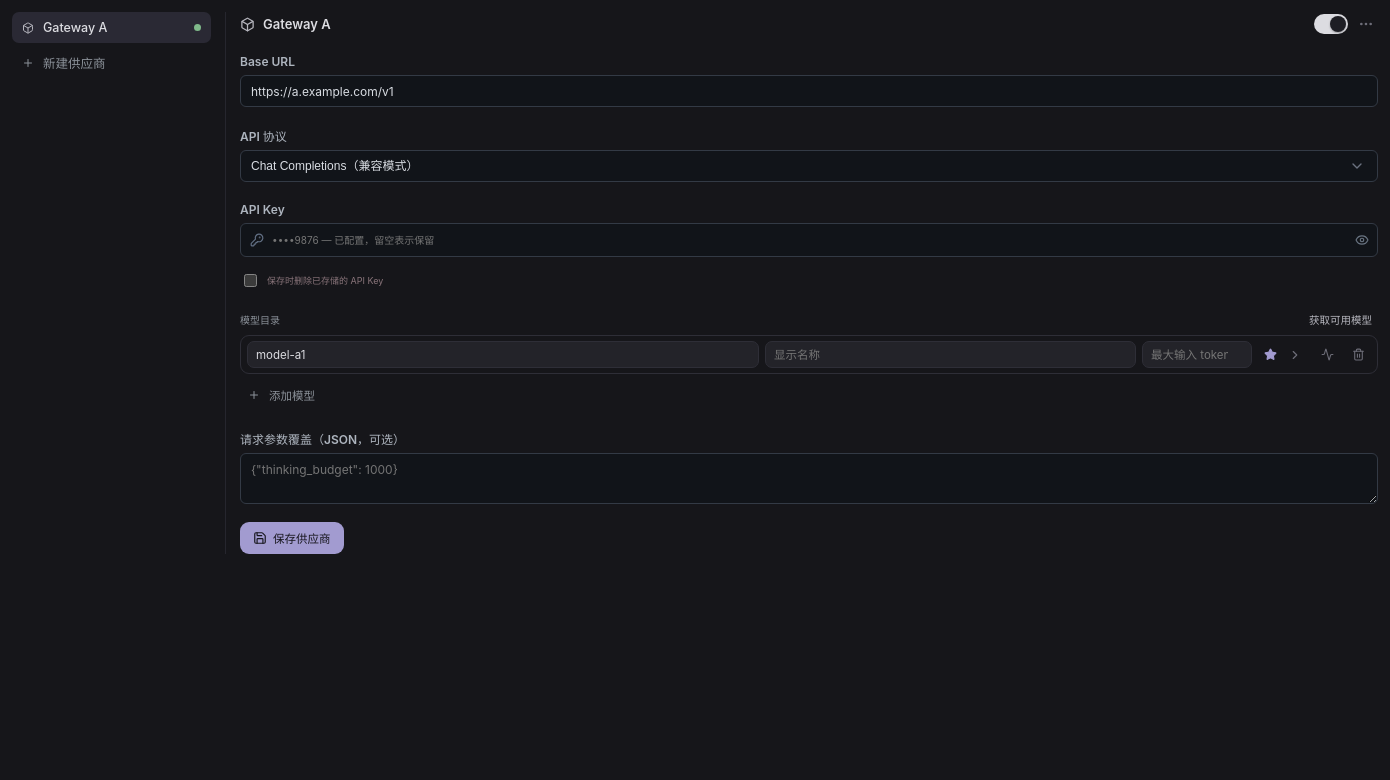
ProviderManager › keeps row test buttons disabled while the provider is unsaved
expect the button named "更多操作" is shown: met, box [1354,12,1378,36]
Click the button "新建供应商" at (112, 62), box [12,45,211,80]
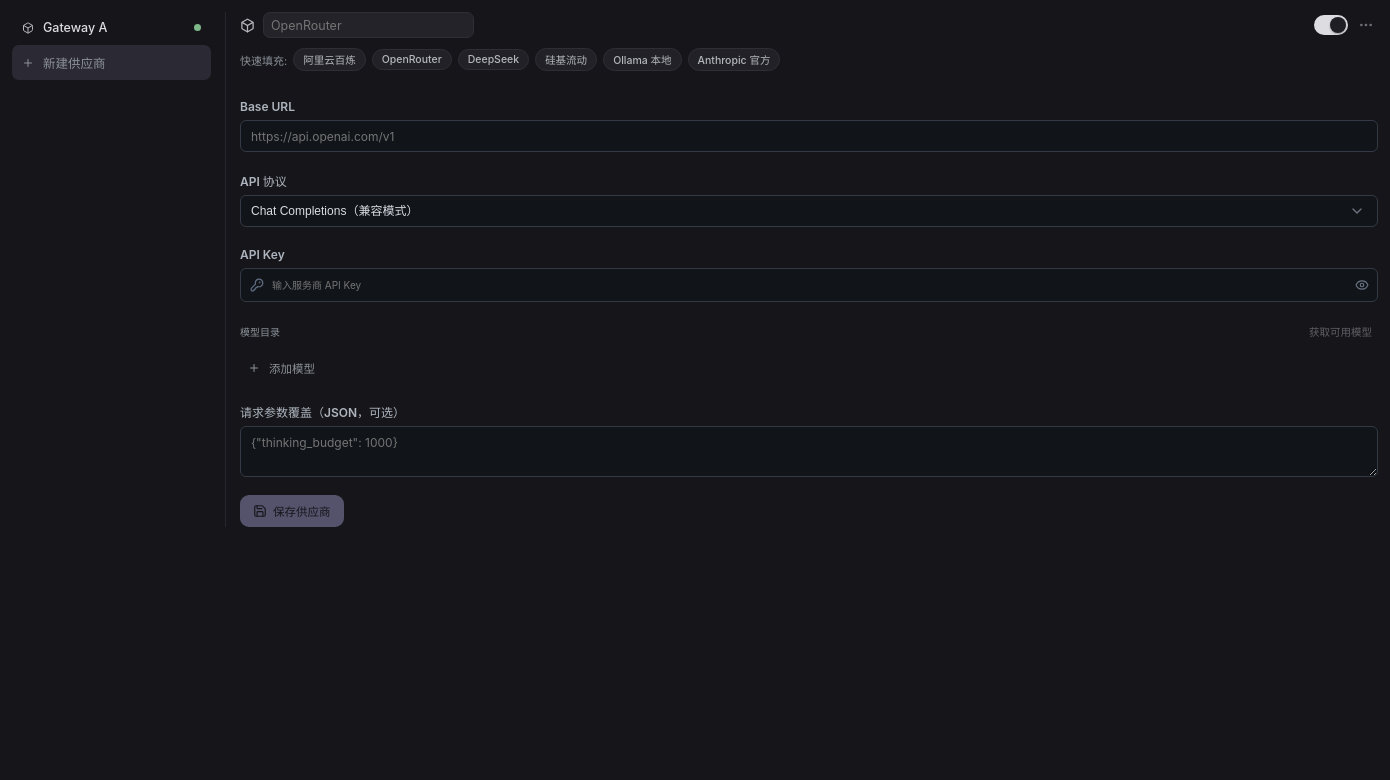
expect the button "保存供应商" is shown: met, box [240,495,344,527]
Click the button "添加模型" at (292, 369), box [240,353,1378,383]
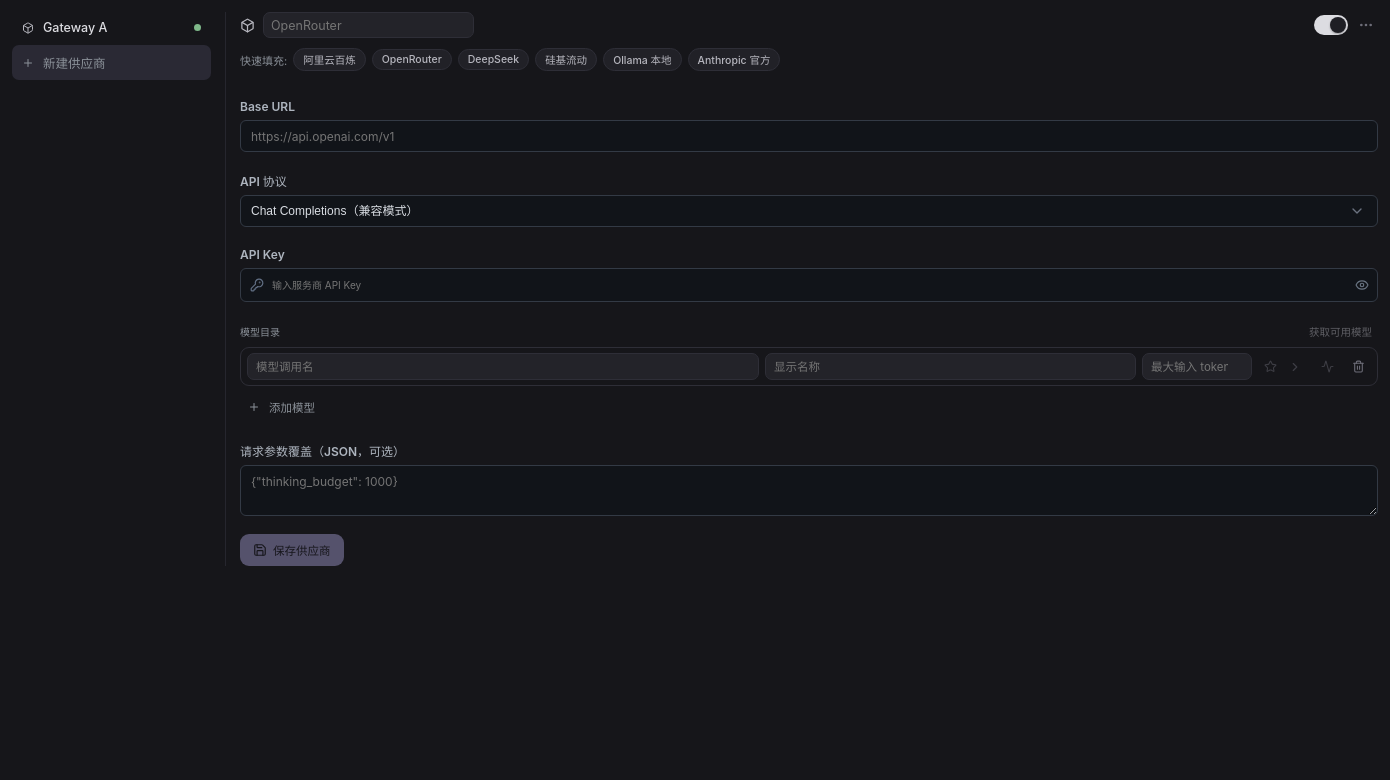
Type "model-new" into the field with placeholder "模型调用名" at (503, 366), box [247,353,759,380]
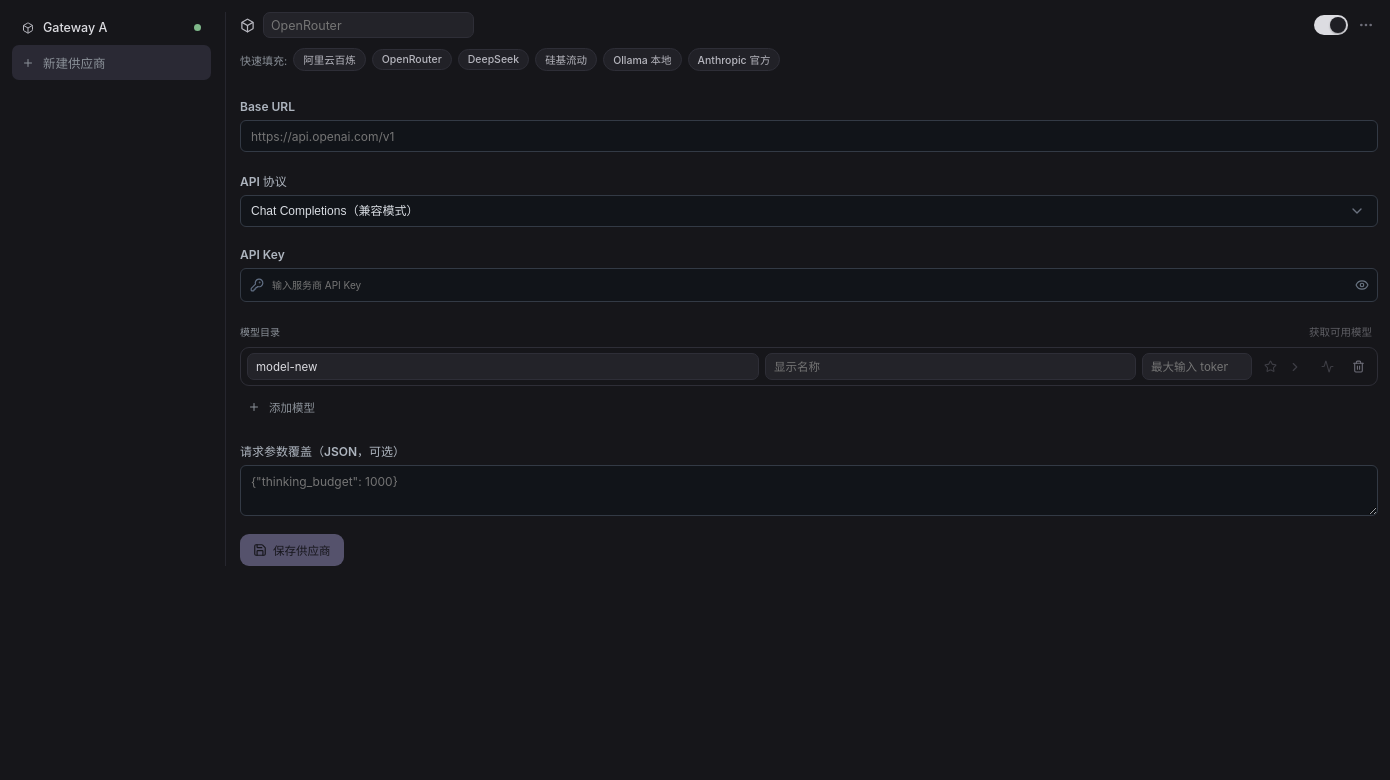
expect the button named "测试连接: model-new" is disabled: met, box [1314,354,1340,380]
Click the button named "更多操作" at (1366, 25), box [1354,13,1378,37]
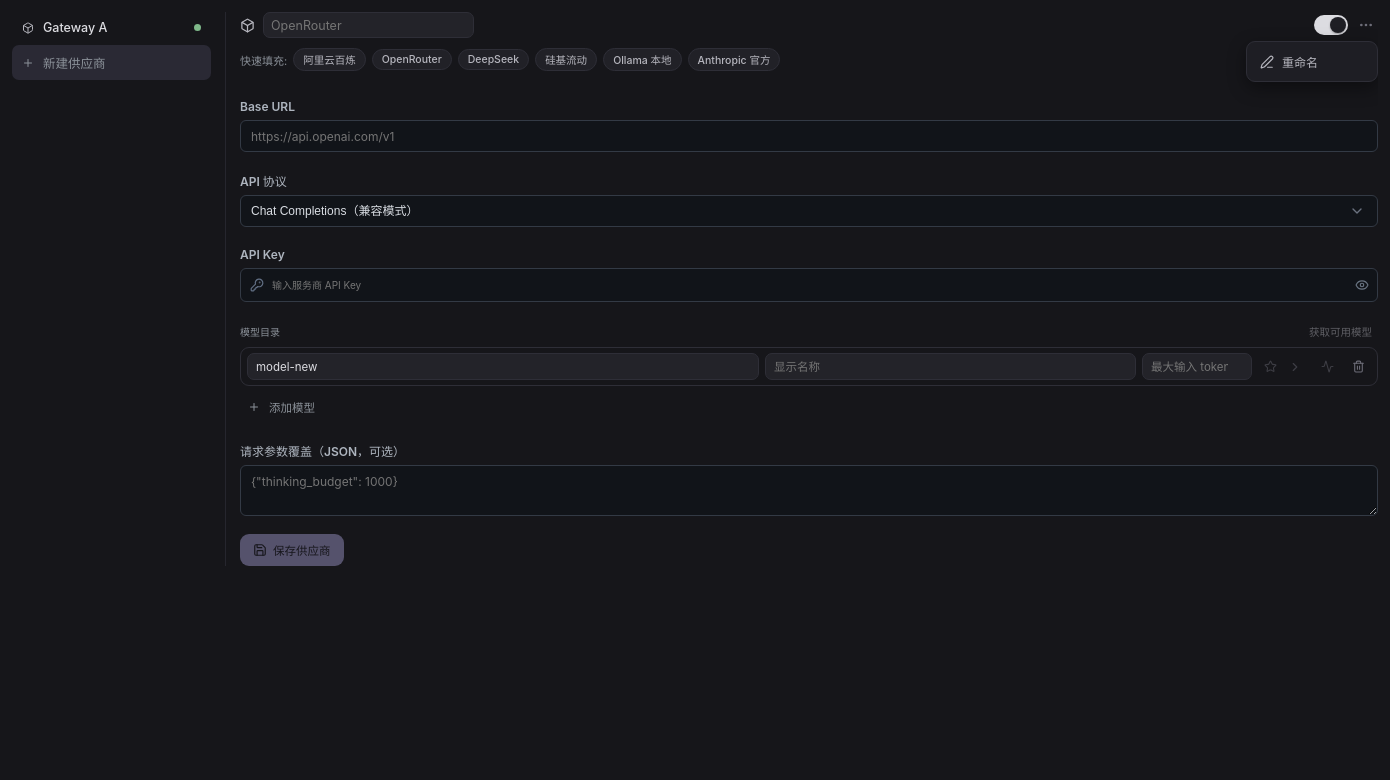
expect the menu item "重命名" is shown: met, box [1251,46,1373,77]
